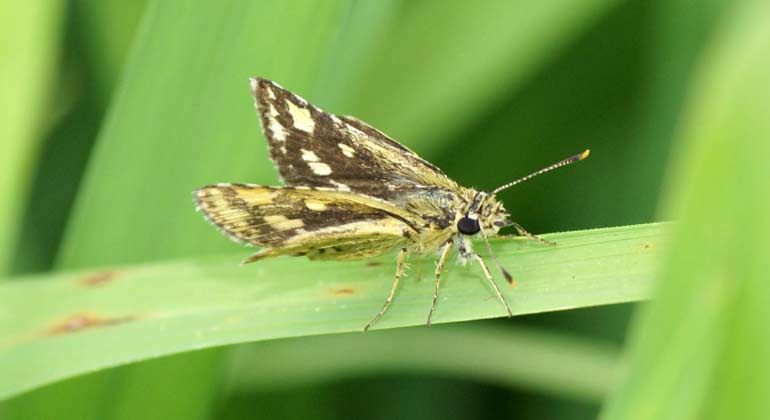Rice_skipper: (235, 79, 520, 267)
